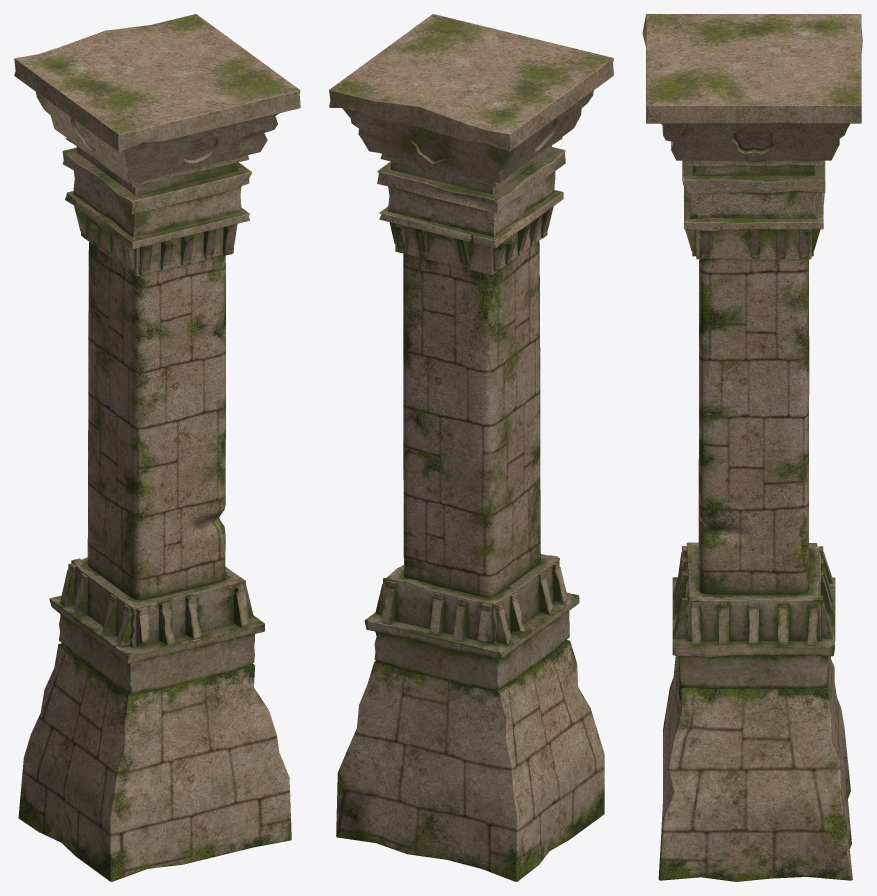
Rendered from greek_underwater_column_3.glb.
3 renders of one model, left to right at view 1: azimuth 30°, elevation 25°; view 2: azimuth 150°, elevation 25°; view 3: azimuth 270°, elevation 25°, orthographic. The views are drawn at different scales.
Parts seen in each view (by area): view 1: polySurface67, polySurface66, polySurface110; view 2: polySurface67, polySurface66, polySurface110; view 3: polySurface67, polySurface66, polySurface110.
Boxes of the visible parts, left/top/right/bottom form: polySurface67: left=18, top=242, right=291, bottom=881; polySurface66: left=14, top=14, right=300, bottom=276; polySurface110: left=49, top=206, right=264, bottom=694; polySurface67: left=336, top=241, right=604, bottom=881; polySurface66: left=329, top=14, right=613, bottom=274; polySurface110: left=364, top=206, right=579, bottom=690; polySurface67: left=658, top=258, right=852, bottom=881; polySurface66: left=642, top=14, right=862, bottom=259; polySurface110: left=672, top=229, right=835, bottom=688.
Bounding box in the file's own units: 189 × 743 × 189.
Materials: 3 (3 with a texture image).
